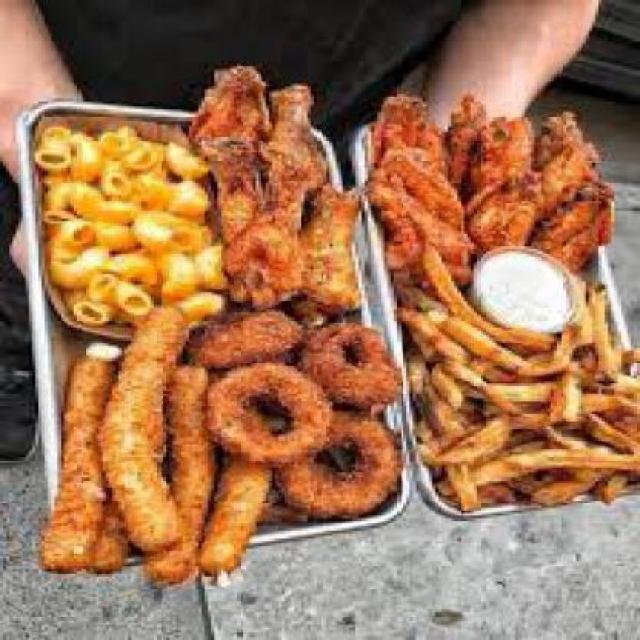chicken wings: (191, 61, 624, 299)
french fries: (412, 292, 637, 511)
macaroni and cheese: (28, 115, 227, 318)
onion rings: (208, 318, 397, 513)
